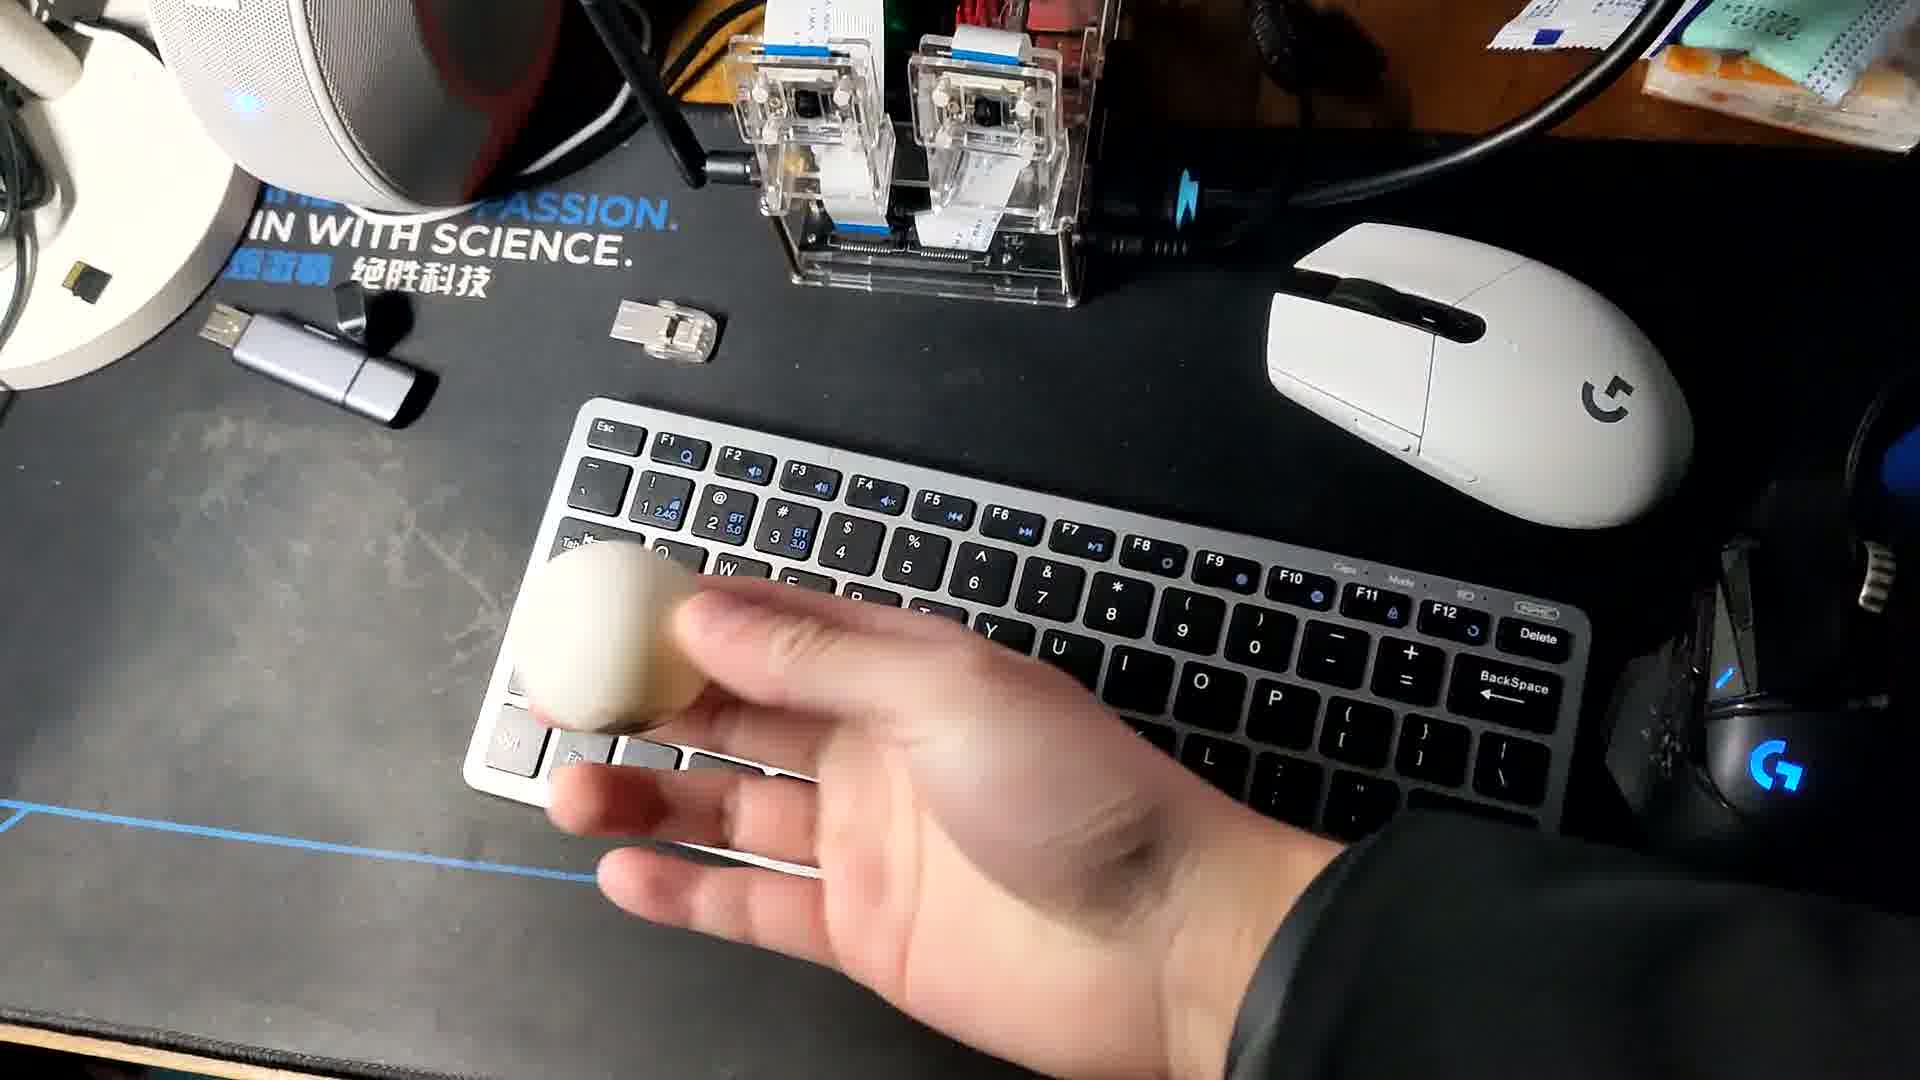Ball: (518, 541, 709, 741)
